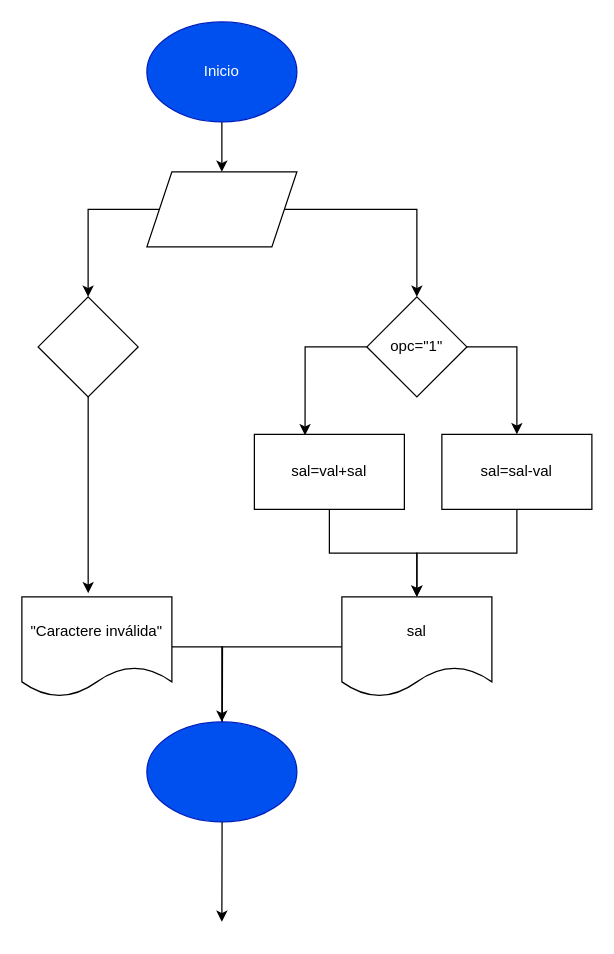
Some shapes in this 614 by 954 pixel diagram are drawn without their labels. Here are the shapes that lost their labels. From the top down, the centre of each, then its label:
the point at 221,209: opc,val
the point at 87,346: opc<>"1" opc<>"2"
the point at 221,771: Fim
